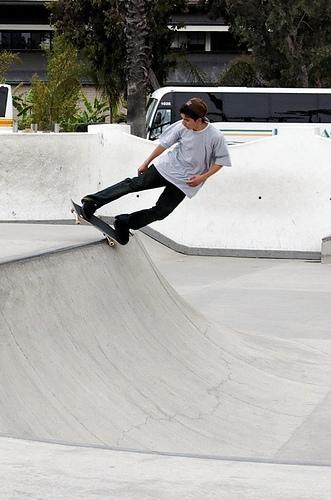bus: (144, 80, 331, 145), (0, 84, 14, 134)
